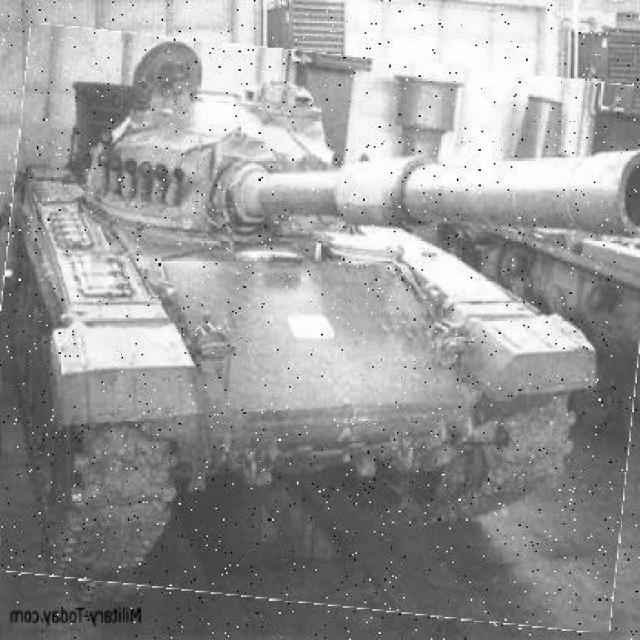Tank: (3, 40, 640, 623)
